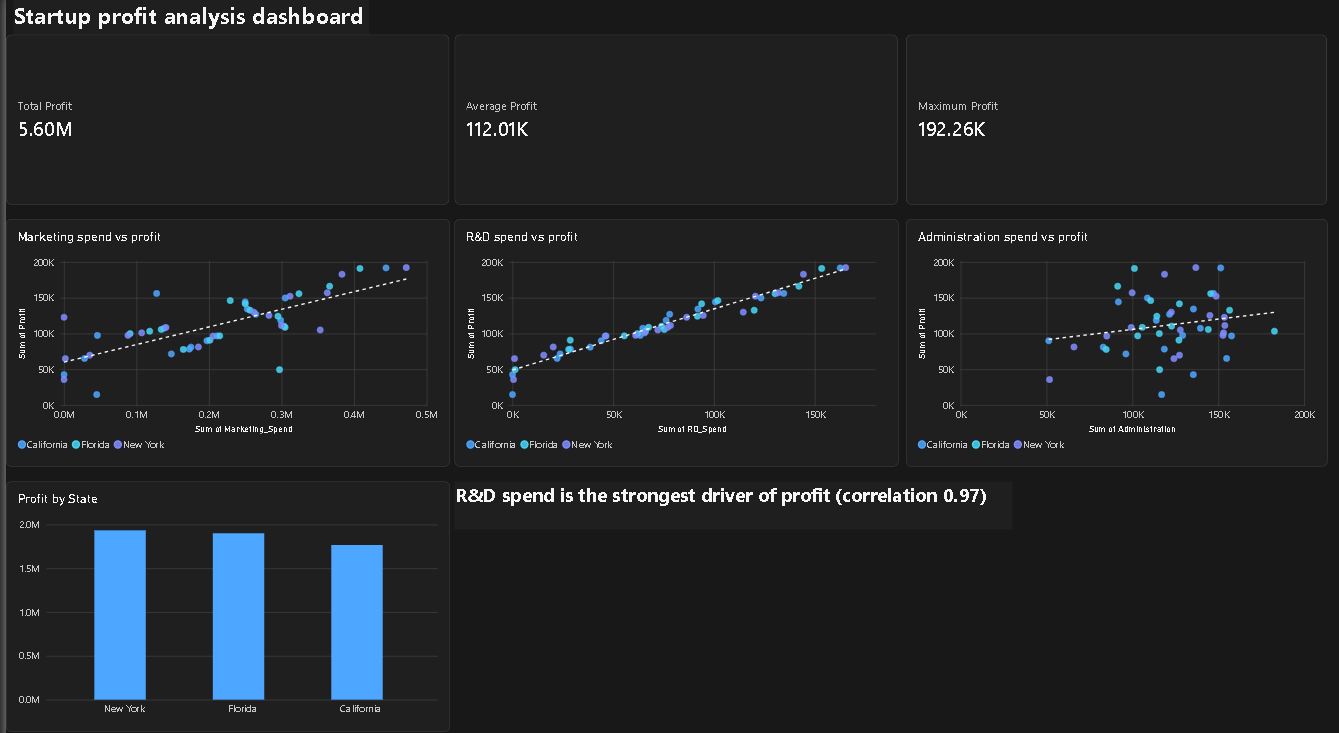

What the dashboard file says about the page in this screenshot:
{"tool":"powerbi","page":{"name":"Page 1","canvas":[1920,1080],"ordinal":0},"visuals":[{"type":"clusteredColumnChart","title":"Profit by State","fields":{"Category":["profit_analysis_startup.State"],"Y":["Sum(profit_analysis_startup.Profit)"]},"box":[0,698.3,636,358.8],"z":0},{"type":"scatterChart","title":"R&D spend vs profit","fields":{"Category":["profit_analysis_startup.Index"],"Series":["profit_analysis_startup.State"],"X":["Sum(profit_analysis_startup.RD_Spend)"],"Y":["Sum(profit_analysis_startup.Profit)"]},"box":[642.4,322.3,636,354.5],"z":1000},{"type":"scatterChart","title":"Marketing spend vs profit","fields":{"Category":["profit_analysis_startup.Index"],"Series":["profit_analysis_startup.State"],"X":["Sum(profit_analysis_startup.Marketing_Spend)"],"Y":["Sum(profit_analysis_startup.Profit)"]},"box":[0,322.3,636,354.5],"z":2000},{"type":"scatterChart","title":"Administration spend vs profit","fields":{"Category":["profit_analysis_startup.Index"],"Series":["profit_analysis_startup.State"],"X":["Sum(profit_analysis_startup.Administration)"],"Y":["Sum(profit_analysis_startup.Profit)"]},"box":[1289.2,322.3,603.8,354.5],"z":3000},{"type":"cardVisual","fields":{"Data":["profit_analysis_startup.Average Profit"]},"box":[642.4,58,636,244.9],"z":4000},{"type":"cardVisual","fields":{"Data":["profit_analysis_startup.Maximum Profit"]},"box":[1289.2,58,603.8,244.9],"z":5000},{"type":"textbox","box":[10.7,8.6,509.2,260],"z":6000},{"type":"textbox","box":[642.4,698.3,799.3,68.8],"z":7000},{"type":"cardVisual","fields":{"Data":["profit_analysis_startup.Total Profit"]},"box":[0,58,636,244.9],"z":8000}]}

Visuals, with their boxes in screenshot pixels (x1, y1, x2, y2), scaled from the page's 1920x1080 canvas onto the 1339x733 screenshot:
"Profit by State" clusteredColumnChart: x1=0 y1=474 x2=444 y2=717
"R&D spend vs profit" scatterChart: x1=448 y1=219 x2=892 y2=459
"Marketing spend vs profit" scatterChart: x1=0 y1=219 x2=444 y2=459
"Administration spend vs profit" scatterChart: x1=899 y1=219 x2=1320 y2=459
cardVisual - profit_analysis_startup.Average Profit: x1=448 y1=39 x2=892 y2=206
cardVisual - profit_analysis_startup.Maximum Profit: x1=899 y1=39 x2=1320 y2=206
textbox: x1=7 y1=6 x2=363 y2=182
textbox: x1=448 y1=474 x2=1005 y2=521
cardVisual - profit_analysis_startup.Total Profit: x1=0 y1=39 x2=444 y2=206
